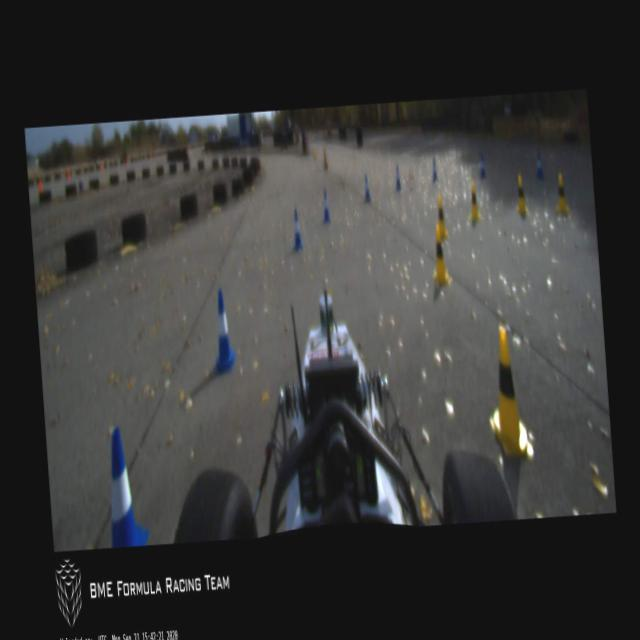blue_cone: (102, 424, 148, 546), (209, 287, 237, 373), (291, 208, 303, 250), (320, 189, 330, 222), (534, 150, 543, 178), (362, 172, 370, 202), (430, 156, 438, 182), (478, 154, 486, 177), (394, 165, 401, 191)
unknown_cone: (321, 146, 328, 170)
yellow_cone: (483, 324, 532, 456), (429, 222, 450, 286), (433, 193, 448, 240), (553, 172, 568, 214), (512, 174, 528, 213), (467, 178, 480, 218)
